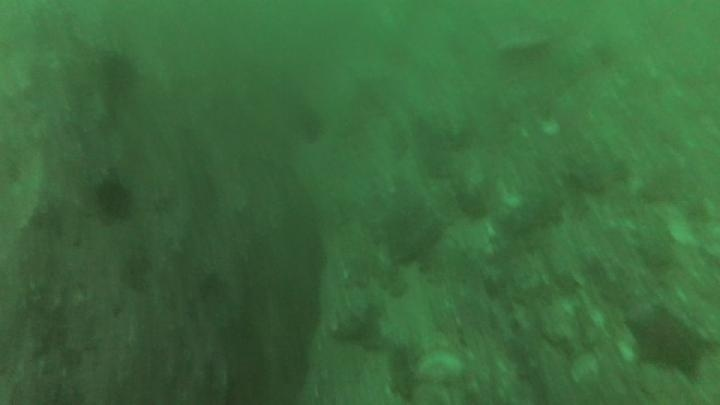echinus: (97, 50, 141, 99), (92, 175, 136, 222)
starfish: (624, 304, 709, 377)
